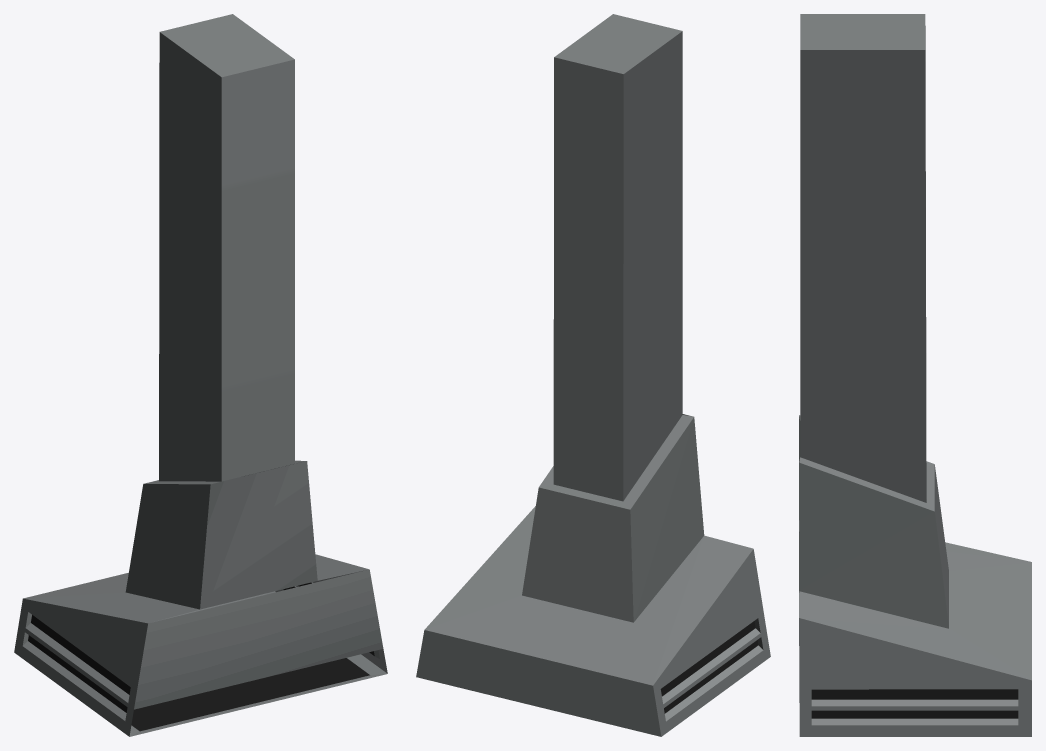
The model's file is Prop_RangeHood.fbx.
3 renders of one model, left to right at view 1: azimuth 30°, elevation 25°; view 2: azimuth 150°, elevation 25°; view 3: azimuth 270°, elevation 25°, orthographic. The views are drawn at different scales.
Parts seen in each view (by area): view 1: Range_Hood; view 2: Range_Hood; view 3: Range_Hood.
Boxes of the visible parts, x1=… form: Range_Hood: x1=14, y1=14, x2=387, y2=736; Range_Hood: x1=416, y1=14, x2=770, y2=736; Range_Hood: x1=799, y1=14, x2=1031, y2=736.
Size of the model in its own units: 51.5 by 39.93 by 121.
Materials: 1 (1 with a texture image).
